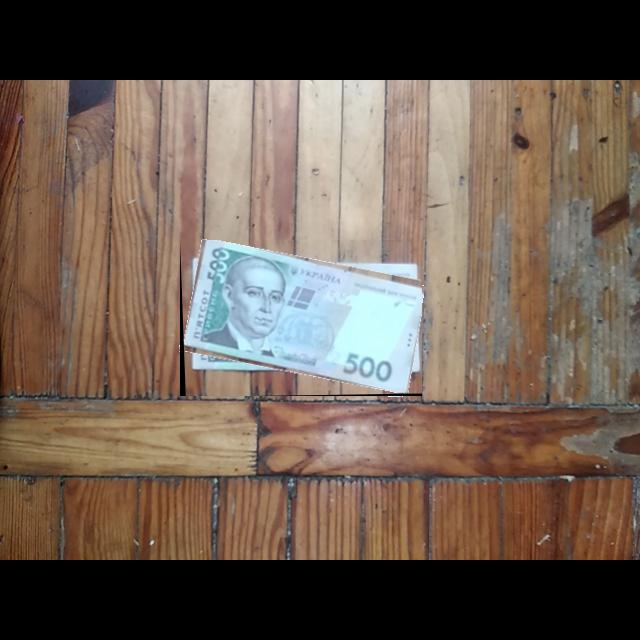500uah: (183, 240, 423, 395)
